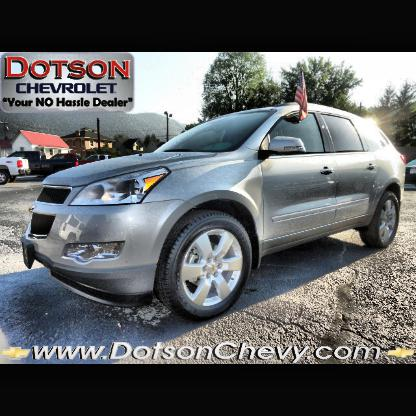Chevrolet Traverse SUV 2012: (19, 99, 410, 327)
